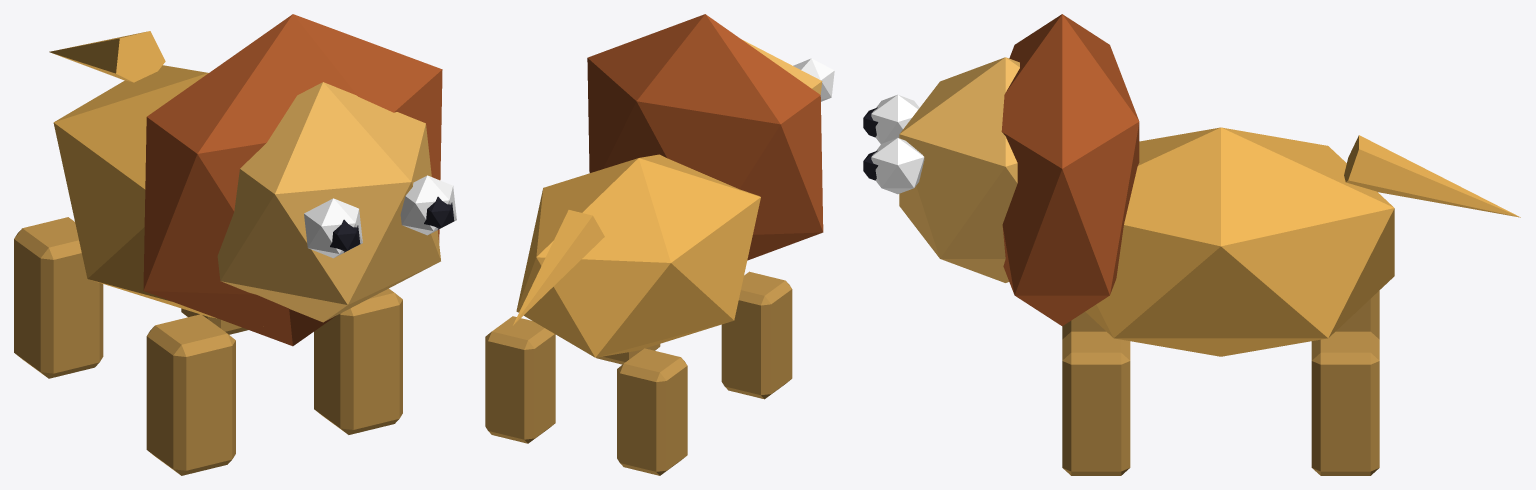
The model's file is CircusLion.fbx.
3 renders of one model, left to right at view 1: azimuth 30°, elevation 25°; view 2: azimuth 150°, elevation 25°; view 3: azimuth 270°, elevation 25°, orthographic. The views are drawn at different scales.
Visible parts, largest first — view 1: CircusLion; view 2: CircusLion; view 3: CircusLion.
Part boxes in pixels (x1,y1,x2,y2): CircusLion: (14,14,456,475); CircusLion: (485,14,834,475); CircusLion: (863,14,1520,475).
Size of the model in its own units: 4.29 by 6.03 by 8.71.
1 material, 1 textured.
